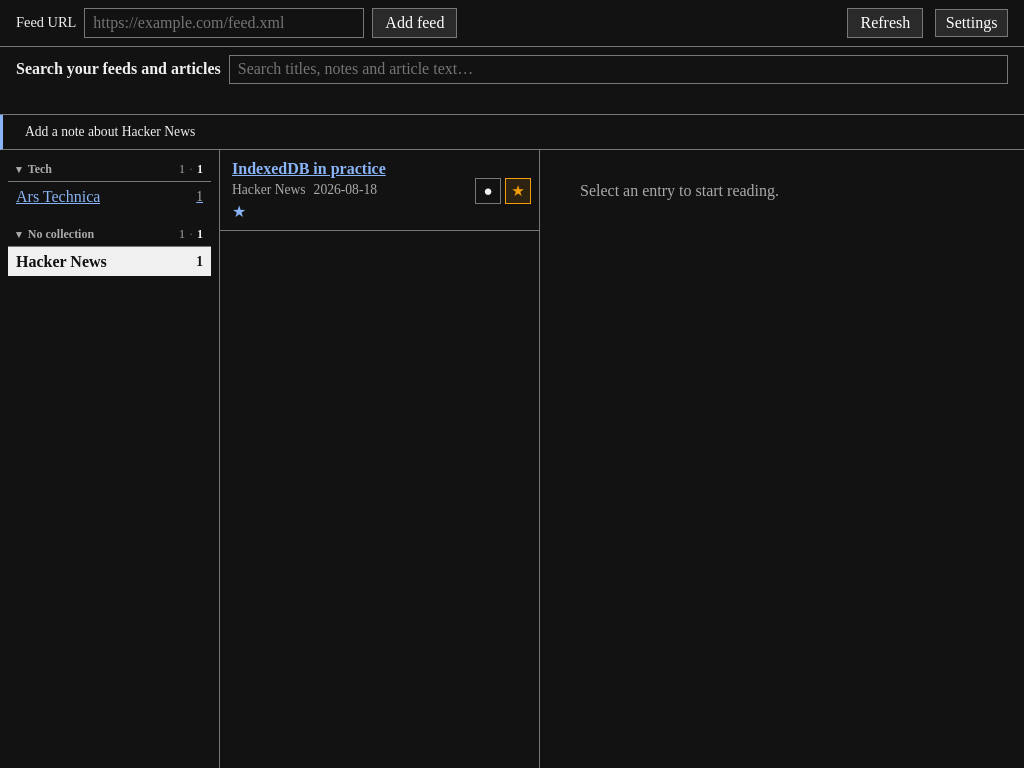
it: App › selection › switching feeds clears the previous entry selection
Click the button "IndexedDB in practice Hacker News 2026-08-18 ★" at (380, 191), box [220, 150, 539, 231]
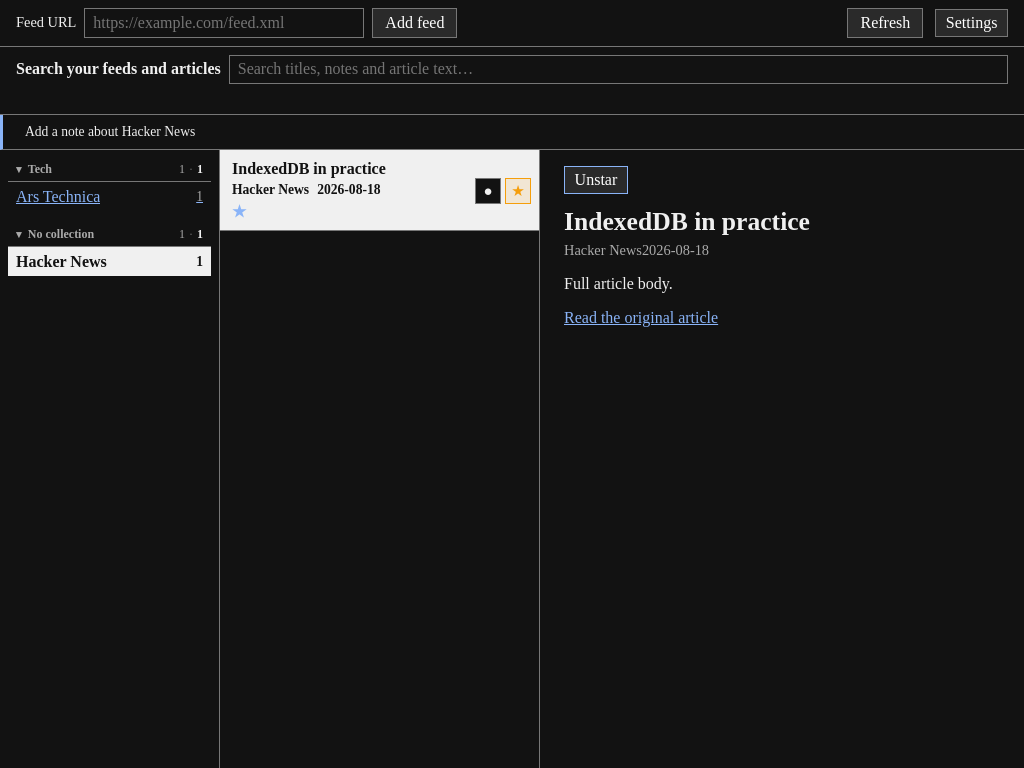
Click the button "Ars Technica 1" at (110, 197), box [8, 182, 211, 211]
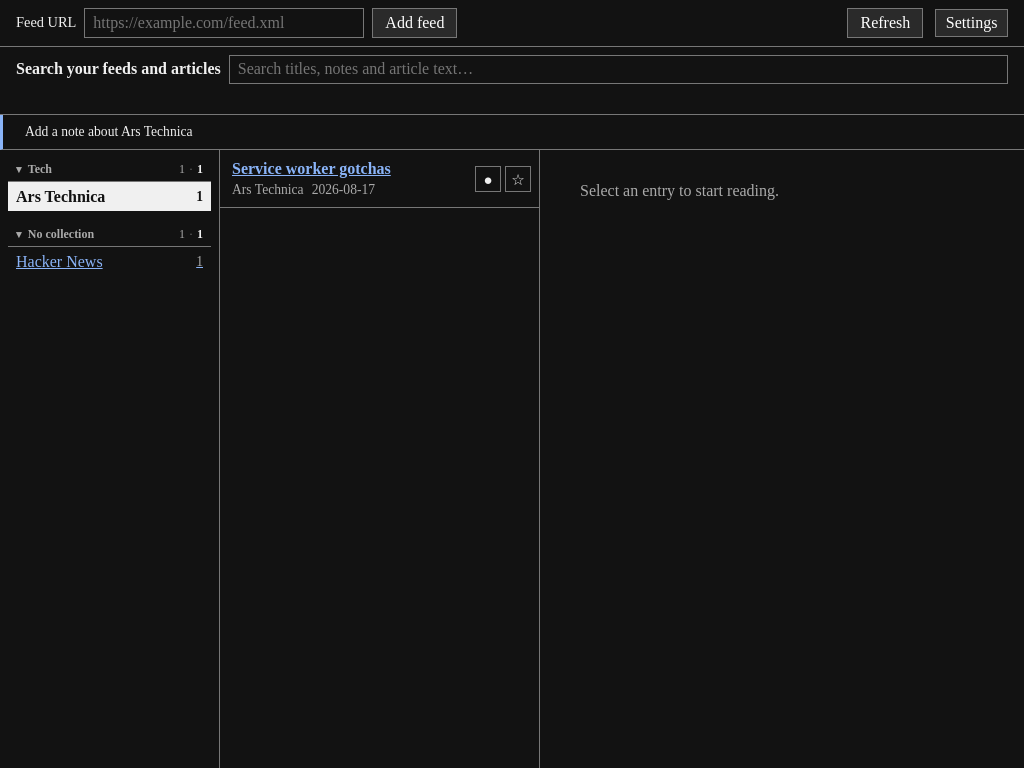
Expected: the text "Select an entry to start reading." is shown, [580, 182, 779, 199]
